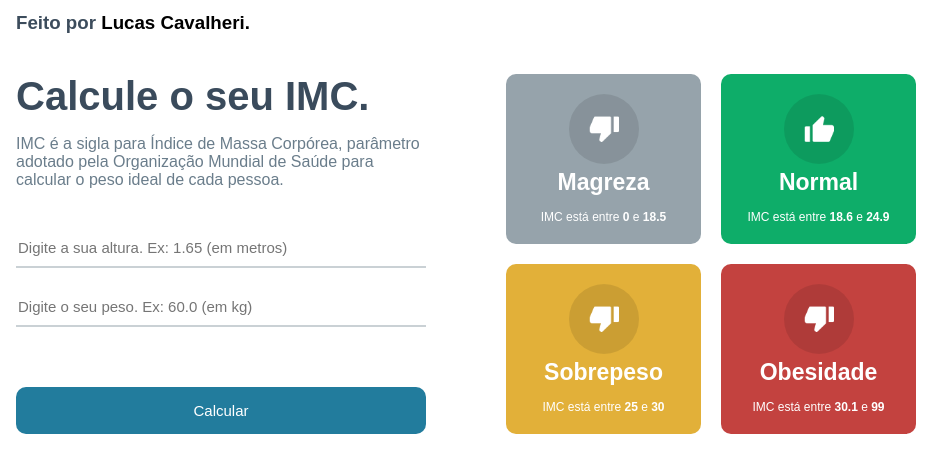
Test case: Testa o App › Testa se ao clicar na flecha, os inputs e o botão voltam a ficar habilitados
The image size is (933, 451).
Type "1.65" into the number field with test id "input-height" at (221, 249), box [16,229,426,268]
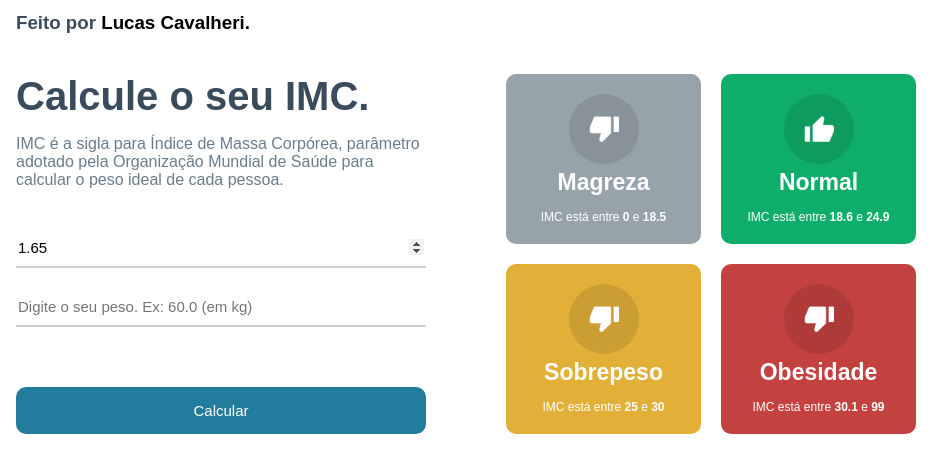
Type "60.0" into the number field with test id "input-weight" at (221, 308), box [16,288,426,327]
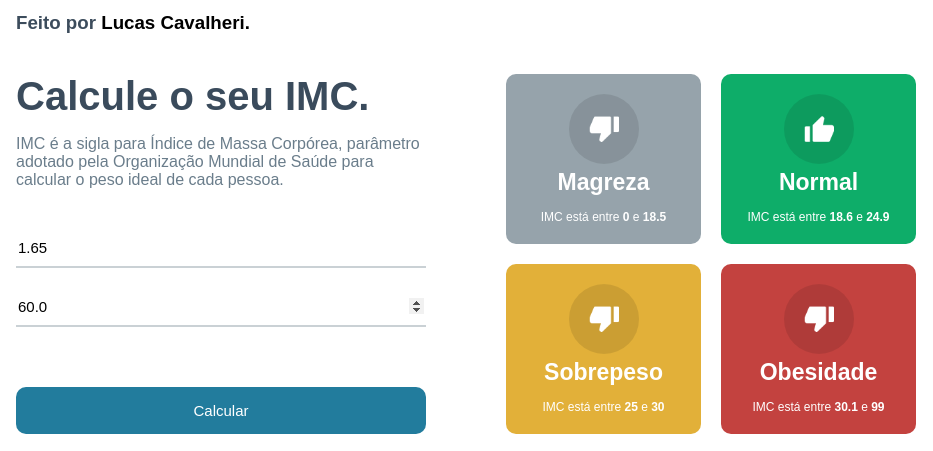
Click the button with test id "button-calcular" at (221, 411), box [16,387,426,434]
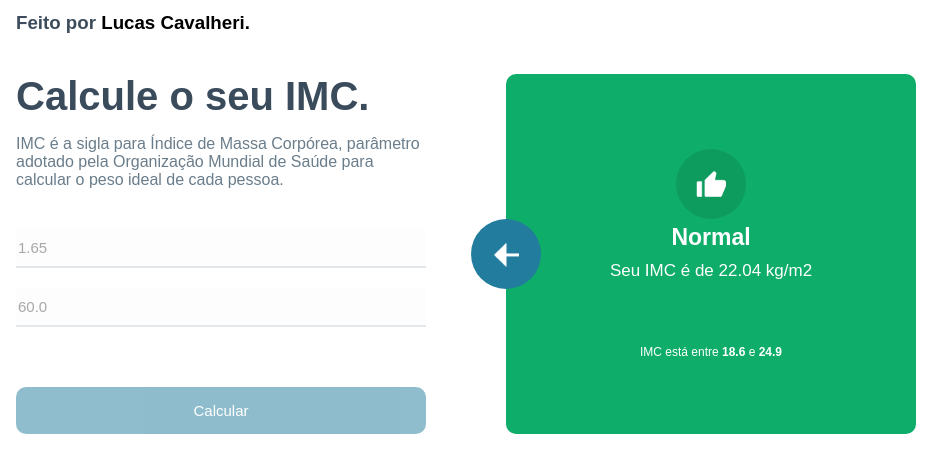
Click the element with test id "back-arrow" at (506, 254), box [471,219,541,289]
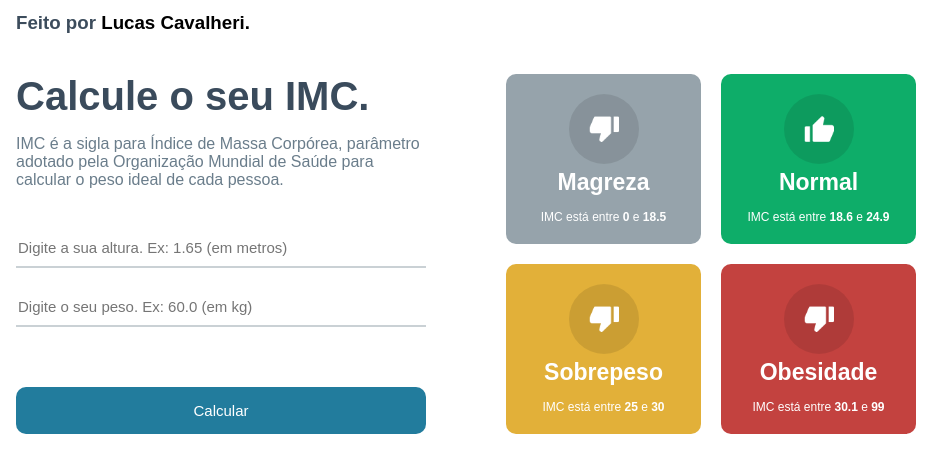
Check: the number field with test id "input-height" is enabled, box [16,229,426,268]
Check: the number field with test id "input-weight" is enabled, box [16,288,426,327]
Check: the button with test id "button-calcular" is enabled, box [16,387,426,434]
